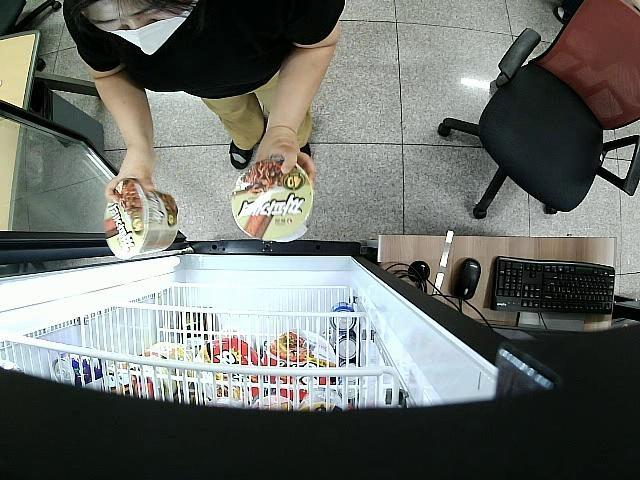03_chapagetti_L: (232, 158, 314, 243), (104, 181, 180, 260)
